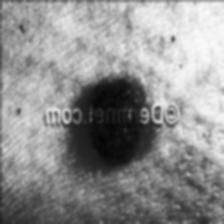Potentially Malignant Skin Tumors: (90, 76, 137, 160)
